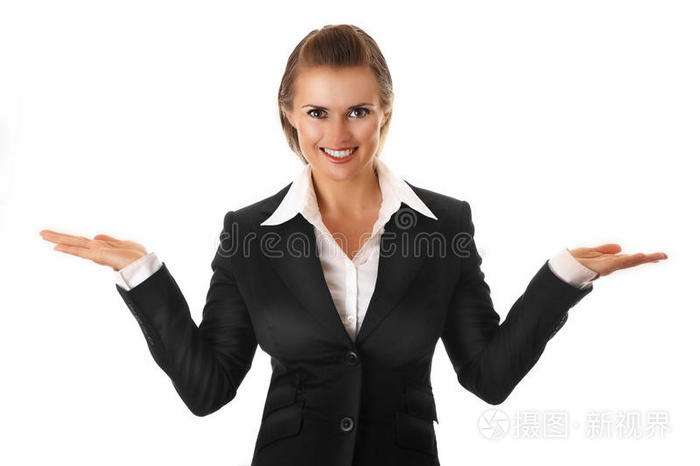no-phone: (35, 225, 150, 272), (571, 236, 671, 280)
